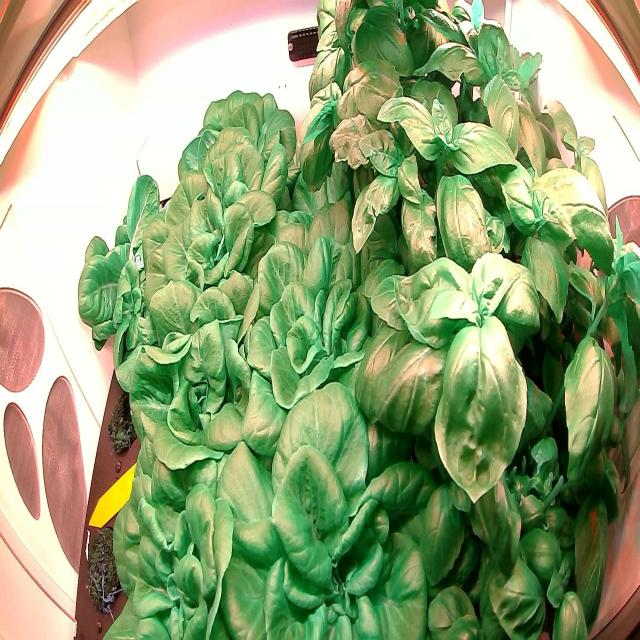Ready: (215, 371, 438, 640), (90, 416, 266, 640), (109, 247, 258, 477), (235, 209, 385, 418), (152, 117, 285, 310), (168, 80, 308, 224)
pod: (105, 375, 149, 463)
young: (69, 161, 171, 381)
